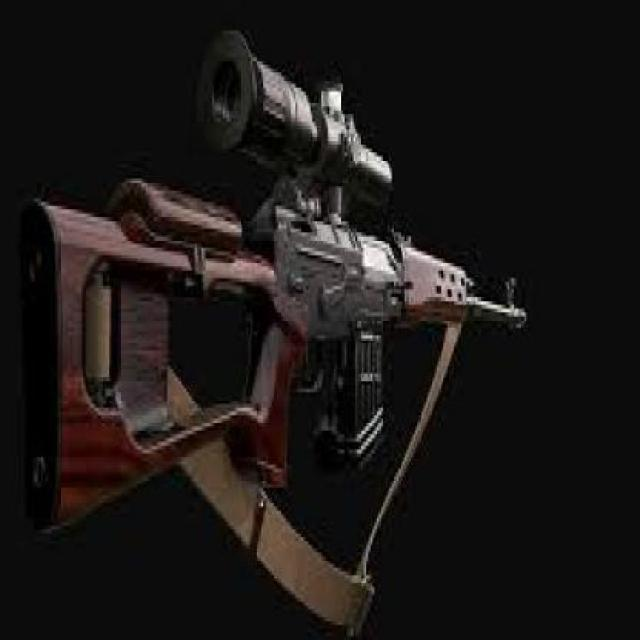weapon: (13, 15, 541, 533)
